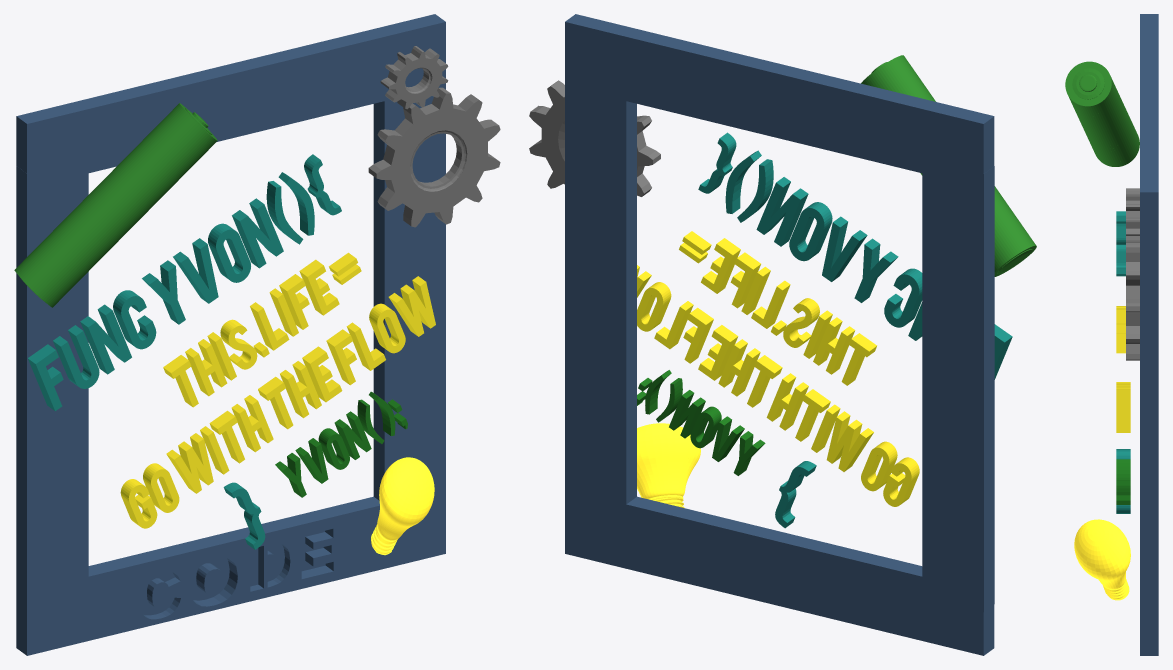
The model's file is frame_C.glb.
3 views of the same model, side by side, from view 1: azimuth 30°, elevation 25°; view 2: azimuth 150°, elevation 25°; view 3: azimuth 270°, elevation 25° (orthographic). The views are drawn at different scales.
Parts seen in each view (by area): view 1: group_0_14860437, group_0_14093196, group_0_8768998, group_0_59275, group_0_12568524, group_0_4634441, group_0_16768282; view 2: group_0_14860437, group_0_14093196, group_0_8768998, group_0_4634441, group_0_16768282, group_0_59275, group_0_12568524; view 3: group_0_14860437, group_0_59275, group_0_16768282, group_0_12568524, group_0_14093196, group_0_8768998, group_0_4634441.
Boxes of the visible parts, x1,y1,x2,y2 form: group_0_14860437: [16, 14, 445, 655]; group_0_14093196: [120, 252, 435, 528]; group_0_8768998: [28, 154, 341, 549]; group_0_59275: [14, 103, 217, 307]; group_0_12568524: [368, 46, 500, 227]; group_0_4634441: [275, 391, 407, 497]; group_0_16768282: [371, 457, 434, 555]; group_0_14860437: [565, 14, 994, 655]; group_0_14093196: [637, 231, 919, 506]; group_0_8768998: [698, 132, 1012, 528]; group_0_4634441: [637, 370, 765, 475]; group_0_16768282: [637, 423, 700, 507]; group_0_59275: [861, 55, 1036, 276]; group_0_12568524: [529, 80, 660, 196]; group_0_14860437: [1140, 14, 1158, 655]; group_0_59275: [1065, 61, 1139, 166]; group_0_16768282: [1074, 519, 1130, 600]; group_0_12568524: [1126, 188, 1139, 360]; group_0_14093196: [1116, 306, 1130, 432]; group_0_8768998: [1116, 211, 1130, 513]; group_0_4634441: [1116, 459, 1130, 504].
Size of the model in its own units: 105 by 111 by 19.91.
